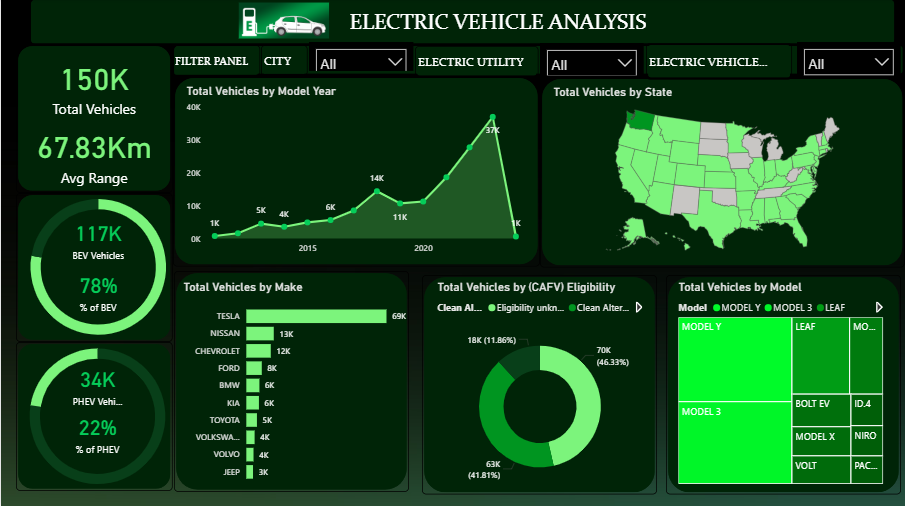

The dashboard page shown, as its layout file describes it:
{"tool":"powerbi","page":{"name":"Electric Vehicle Analysis Dashboard","canvas":[1280,720],"ordinal":0},"visuals":[{"type":"shape","box":[242.6,64.9,125.4,45.4],"z":0,"group":"g1"},{"type":"shape","box":[21.5,64.4,221.7,210.9],"z":0},{"type":"shape","box":[368.6,65.7,65.8,43.9],"z":1000,"group":"g1"},{"type":"card","fields":{"Values":["Electric_Vehicle_Population_Data.Total Vehicles"]},"box":[21.5,75.1,221.7,94.7],"z":1000},{"type":"slicer","fields":{"Values":["Electric_Vehicle_Population_Data.City"]},"box":[436.4,61.2,148.4,41.1],"z":2000,"group":"g1"},{"type":"card","fields":{"Values":["Electric_Vehicle_Population_Data.Avg Range"]},"box":[21.5,169.8,221.7,100.1],"z":2000},{"type":"shape","box":[586.6,66.6,175.2,44.7],"z":3000,"group":"g1"},{"type":"shape","box":[21.5,275.3,221.7,210.9],"z":3000},{"type":"slicer","fields":{"Values":["Electric_Vehicle_Population_Data.Electric Utility"]},"box":[763.6,63,146.6,46.5],"z":4000,"group":"g1"},{"type":"shape","box":[21.5,486.3,221.7,210.9],"z":4000},{"type":"shape","box":[913.7,63,207.4,51.8],"z":5000,"group":"g1"},{"type":"donutChart","fields":{"Category":["Electric_Vehicle_Population_Data.Electric Vehicle Type"],"Y":["Electric_Vehicle_Population_Data.Total Vehicles"]},"box":[12.5,253.9,250.3,252.1],"z":5000},{"type":"slicer","fields":{"Values":["Electric_Vehicle_Population_Data.Electric Vehicle Type"]},"box":[1128.3,61.2,146.6,48.3],"z":6000,"group":"g1"},{"type":"donutChart","fields":{"Category":["Electric_Vehicle_Population_Data.Electric Vehicle Type"],"Y":["Electric_Vehicle_Population_Data.Total Vehicles"]},"box":[0,466.6,273.5,250.3],"z":6000},{"type":"card","fields":{"Values":["Electric_Vehicle_Population_Data.BEV Vehicles"]},"box":[87.6,298.5,100.1,82.2],"z":7000},{"type":"card","fields":{"Values":["Electric_Vehicle_Population_Data.% of BEV"]},"box":[87.6,359.3,100.1,107.3],"z":8000},{"type":"card","fields":{"Values":["Electric_Vehicle_Population_Data.PHEV Vehicles"]},"box":[94.7,505.9,84,82.2],"z":9000},{"type":"card","fields":{"Values":["Electric_Vehicle_Population_Data.% of PHEV"]},"box":[94.7,573.9,84,82.2],"z":10000},{"type":"shape","box":[243.1,64.4,1036.9,44.7],"z":11000},{"type":"shape","box":[243.1,109.1,520,270],"z":12000},{"type":"areaChart","fields":{"Category":["Electric_Vehicle_Population_Data.Model Year"],"Y":["Electric_Vehicle_Population_Data.Total Vehicles"]},"box":[257.4,119.8,489.8,250.3],"z":13000},{"type":"shape","box":[763.4,110.8,516.6,269.9],"z":14000},{"type":"shapeMap","fields":{"Category":["Electric_Vehicle_Population_Data.State"],"Value":["Electric_Vehicle_Population_Data.Total Vehicles"]},"box":[777.7,121.6,489.8,250.3],"z":15000},{"type":"shape","box":[244.9,386.1,333,313],"z":16000},{"type":"barChart","fields":{"Category":["Electric_Vehicle_Population_Data.Make"],"Y":["Electric_Vehicle_Population_Data.Total Vehicles"]},"box":[253.9,398.7,326,296.8],"z":17000},{"type":"shape","box":[597.1,391.5,333,311.1],"z":18000},{"type":"donutChart","title":"Total Vehicles by (CAFV) Eligibility","fields":{"Category":["Electric_Vehicle_Population_Data.Clean Alternative Fuel Vehicle (CAFV) Eligibility"],"Y":["Electric_Vehicle_Population_Data.Total Vehicles"]},"box":[613.2,398.7,300.3,311.1],"z":19000},{"type":"shape","box":[942.1,391.5,333,311.1],"z":20000},{"type":"treemap","fields":{"Group":["Electric_Vehicle_Population_Data.Model"],"Values":["Electric_Vehicle_Population_Data.Total Vehicles"]},"box":[954.6,398.1,299.7,294],"z":21000},{"type":"shape","box":[21.5,0,1246,64.4],"z":22000},{"type":"group","id":"g1","title":"FILTER PANEL","box":[242.6,61.2,1032.2,53.6],"z":23000},{"type":"image","box":[326,0,150.2,60.9],"z":24000}]}

Visuals, with their boxes in screenshot pixels (x1, y1, x2, y2), scaled from the page's 1280x720 canvas onto the 905x506 screenshot:
shape: 172,46,260,78
shape: 15,45,172,193
shape: 261,46,307,77
card - Electric_Vehicle_Population_Data.Total Vehicles: 15,53,172,119
slicer - Electric_Vehicle_Population_Data.City: 309,43,413,72
card - Electric_Vehicle_Population_Data.Avg Range: 15,119,172,190
shape: 415,47,539,78
shape: 15,193,172,342
slicer - Electric_Vehicle_Population_Data.Electric Utility: 540,44,644,77
shape: 15,342,172,490
shape: 646,44,793,81
donutChart - Electric_Vehicle_Population_Data.Electric Vehicle Type x Electric_Vehicle_Population_Data.Total Vehicles: 9,178,186,356
slicer - Electric_Vehicle_Population_Data.Electric Vehicle Type: 798,43,901,77
donutChart - Electric_Vehicle_Population_Data.Electric Vehicle Type x Electric_Vehicle_Population_Data.Total Vehicles: 0,328,193,504
card - Electric_Vehicle_Population_Data.BEV Vehicles: 62,210,133,268
card - Electric_Vehicle_Population_Data.% of BEV: 62,253,133,328
card - Electric_Vehicle_Population_Data.PHEV Vehicles: 67,356,126,413
card - Electric_Vehicle_Population_Data.% of PHEV: 67,403,126,461
shape: 172,45,904,77
shape: 172,77,540,266
areaChart - Electric_Vehicle_Population_Data.Model Year x Electric_Vehicle_Population_Data.Total Vehicles: 182,84,528,260
shape: 540,78,904,268
shapeMap - Electric_Vehicle_Population_Data.State x Electric_Vehicle_Population_Data.Total Vehicles: 550,85,896,261
shape: 173,271,409,491
barChart - Electric_Vehicle_Population_Data.Make x Electric_Vehicle_Population_Data.Total Vehicles: 180,280,410,489
shape: 422,275,658,494
"Total Vehicles by (CAFV) Eligibility" donutChart: 434,280,646,499
shape: 666,275,902,494
treemap - Electric_Vehicle_Population_Data.Model x Electric_Vehicle_Population_Data.Total Vehicles: 675,280,887,486
shape: 15,0,896,45
"FILTER PANEL" group: 172,43,901,81
image: 230,0,337,43
